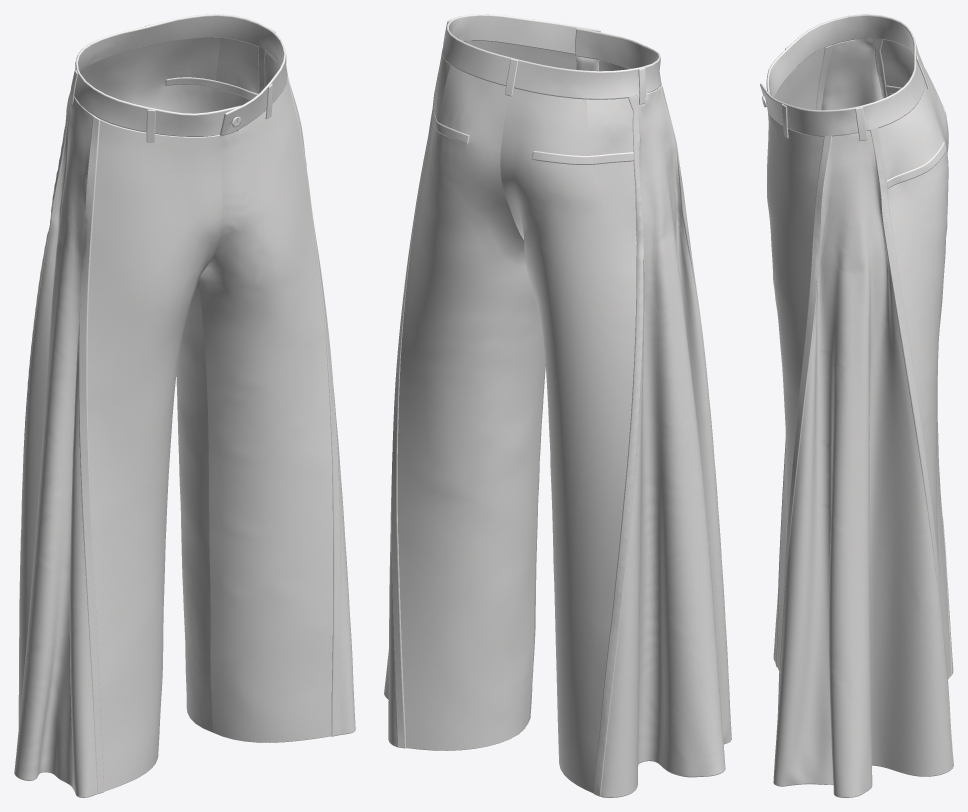
The model's file is Look 1_3.gltf.
The picture shows the model from 3 angles, left to right: view 1: azimuth 30°, elevation 25°; view 2: azimuth 150°, elevation 25°; view 3: azimuth 270°, elevation 25°; orthographic projection. The views are drawn at different scales.
Parts seen in each view (by area): view 1: Cloth; view 2: Cloth; view 3: Cloth.
Boxes of the visible parts, bbox=[...] form: Cloth: bbox=[14, 14, 355, 797]; Cloth: bbox=[384, 14, 731, 797]; Cloth: bbox=[760, 14, 953, 797].
Size of the model in its own units: 0.5455 by 1.08 by 0.2858.
Materials: 4 (3 with a texture image).
